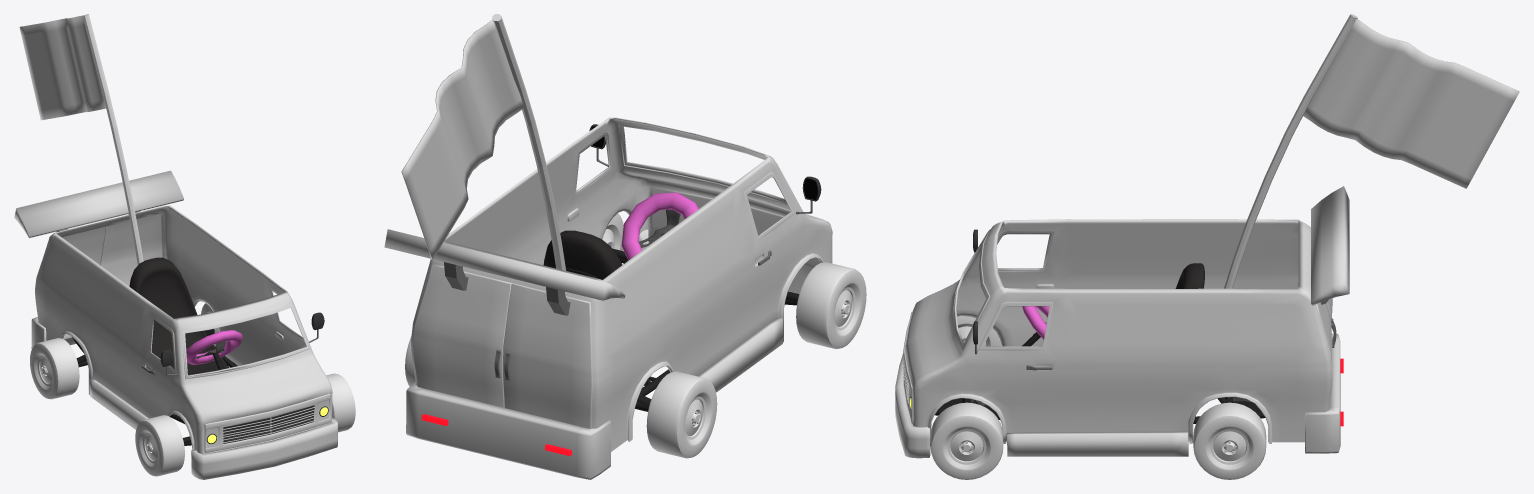
3 renders of one model, left to right at view 1: azimuth 30°, elevation 25°; view 2: azimuth 150°, elevation 25°; view 3: azimuth 270°, elevation 25°, orthographic. The views are drawn at different scales.
Parts seen in each view (by area): view 1: carbody, wheel; view 2: carbody, wheel; view 3: carbody, wheel.
Boxes of the visible parts, x1,y1,x2,y2 form: carbody: [14, 14, 337, 479]; wheel: [30, 303, 355, 476]; carbody: [384, 14, 832, 479]; wheel: [405, 213, 866, 458]; carbody: [895, 14, 1519, 458]; wheel: [930, 316, 1266, 479].
Bounding box in the file's own units: 1.4 × 2.25 × 3.14.
